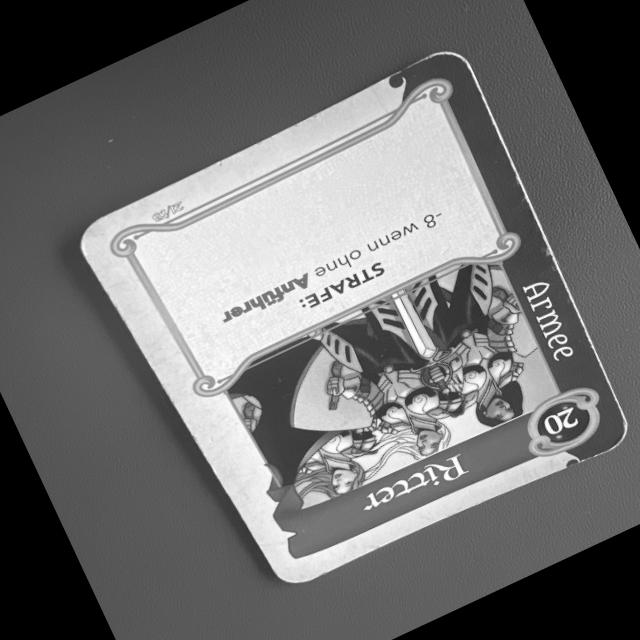Knights: (63, 43, 626, 590)
